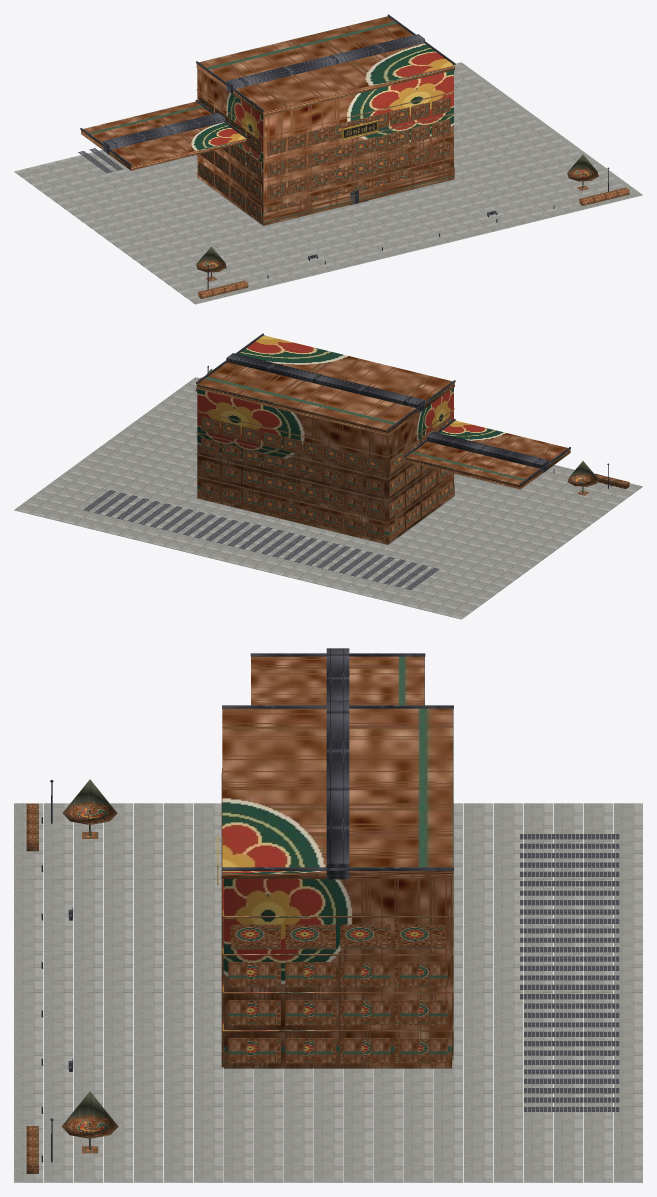
3 views of the same model, one above another, from view 1: azimuth 30°, elevation 25°; view 2: azimuth 150°, elevation 25°; view 3: azimuth 270°, elevation 25° (orthographic). The views are drawn at different scales.
Visible parts, largest first — view 1: 11680_01_06030_014_01__plinth_ground_base, 11680_01_06030_014_02__mass_body_facade, 11680_01_06030_014_05__window_sash_glass, 11680_01_06030_014_03__roof_metal_ornament, 11680_01_06030_014_06__landscape_greenery; view 2: 11680_01_06030_014_01__plinth_ground_base, 11680_01_06030_014_02__mass_body_facade, 11680_01_06030_014_03__roof_deck_structure, 11680_01_06030_014_03__roof_metal_ornament, 11680_01_06030_014_06__landscape_greenery; view 3: 11680_01_06030_014_01__plinth_ground_base, 11680_01_06030_014_02__mass_body_facade, 11680_01_06030_014_03__roof_deck_structure, 11680_01_06030_014_03__roof_metal_ornament, 11680_01_06030_014_06__landscape_greenery.
Boxes of the visible parts, x1,y1,x2,y2 form: 11680_01_06030_014_01__plinth_ground_base: (14, 62, 642, 304); 11680_01_06030_014_02__mass_body_facade: (81, 16, 454, 225); 11680_01_06030_014_05__window_sash_glass: (270, 97, 447, 216); 11680_01_06030_014_03__roof_metal_ornament: (80, 14, 455, 166); 11680_01_06030_014_06__landscape_greenery: (196, 154, 629, 298); 11680_01_06030_014_01__plinth_ground_base: (14, 377, 642, 619); 11680_01_06030_014_02__mass_body_facade: (196, 335, 570, 544); 11680_01_06030_014_03__roof_deck_structure: (83, 490, 439, 589); 11680_01_06030_014_03__roof_metal_ornament: (196, 333, 570, 485); 11680_01_06030_014_06__landscape_greenery: (195, 369, 629, 495); 11680_01_06030_014_01__plinth_ground_base: (14, 803, 642, 1182); 11680_01_06030_014_02__mass_body_facade: (221, 656, 453, 1068); 11680_01_06030_014_03__roof_deck_structure: (520, 834, 619, 1111); 11680_01_06030_014_03__roof_metal_ornament: (222, 648, 453, 879); 11680_01_06030_014_06__landscape_greenery: (26, 779, 118, 1173).
Bounding box in the file's own units: 93.95 × 24.4 × 65.95.
Materials: 7 (7 with a texture image).
